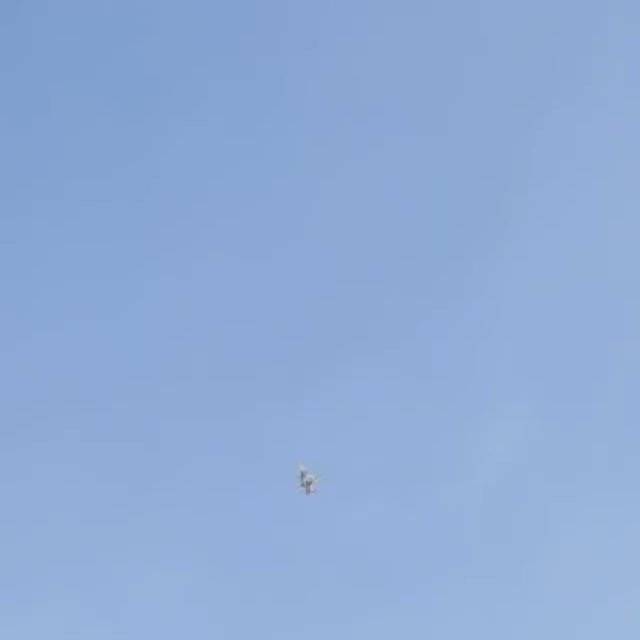drone: (288, 452, 320, 497)
